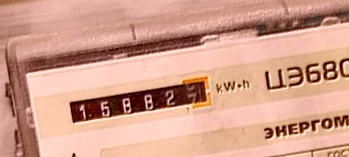1: (77, 102, 89, 121)
2: (164, 88, 177, 107)
5: (99, 100, 112, 118)
7: (187, 92, 199, 104)
8: (119, 96, 134, 114), (142, 92, 155, 111)
screen: (60, 71, 219, 133)
